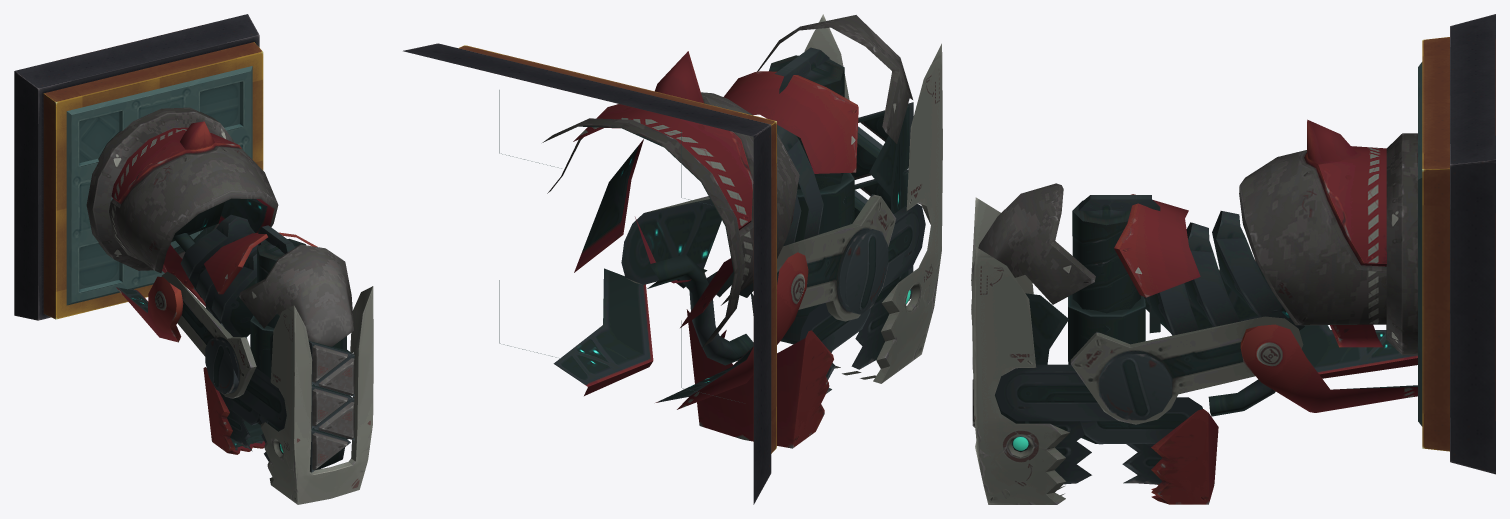
File: roarmulus_x3_01.glb
The picture shows the model from 3 angles, left to right: view 1: azimuth 30°, elevation 25°; view 2: azimuth 150°, elevation 25°; view 3: azimuth 270°, elevation 25°; orthographic projection. The views are drawn at different scales.
Parts seen in each view (by area): view 1: boss.roarmulus_x3_01-MeshNodes["trophy_roarmulus_t3_boss"], boss.roarmulus_x3_01-MeshNodes["trophy_roarmulus_t3"], boss.roarmulus_x3_01-MeshNodes["trophy_roarmulus_t3_floor1"], boss.roarmulus_x3_01-MeshNodes["trophy_roarmulus_t3_floor2"]; view 2: boss.roarmulus_x3_01-MeshNodes["trophy_roarmulus_t3_boss"], boss.roarmulus_x3_01-MeshNodes["trophy_roarmulus_t3"]; view 3: boss.roarmulus_x3_01-MeshNodes["trophy_roarmulus_t3_boss"], boss.roarmulus_x3_01-MeshNodes["trophy_roarmulus_t3"], boss.roarmulus_x3_01-MeshNodes["trophy_roarmulus_t3_floor1"].
Part boxes in pixels (bbox=[...]): boss.roarmulus_x3_01-MeshNodes["trophy_roarmulus_t3_boss"]: bbox=[86, 107, 373, 504]; boss.roarmulus_x3_01-MeshNodes["trophy_roarmulus_t3"]: bbox=[14, 14, 263, 320]; boss.roarmulus_x3_01-MeshNodes["trophy_roarmulus_t3_floor1"]: bbox=[66, 66, 252, 305]; boss.roarmulus_x3_01-MeshNodes["trophy_roarmulus_t3_floor2"]: bbox=[79, 82, 240, 292]; boss.roarmulus_x3_01-MeshNodes["trophy_roarmulus_t3_boss"]: bbox=[542, 14, 942, 448]; boss.roarmulus_x3_01-MeshNodes["trophy_roarmulus_t3"]: bbox=[403, 43, 776, 504]; boss.roarmulus_x3_01-MeshNodes["trophy_roarmulus_t3_boss"]: bbox=[971, 119, 1417, 504]; boss.roarmulus_x3_01-MeshNodes["trophy_roarmulus_t3"]: bbox=[1422, 14, 1495, 474]; boss.roarmulus_x3_01-MeshNodes["trophy_roarmulus_t3_floor1"]: bbox=[1418, 62, 1422, 426].
Size of the model in its own units: 3.02 by 3.83 by 4.57.
5 materials, 4 textured.
